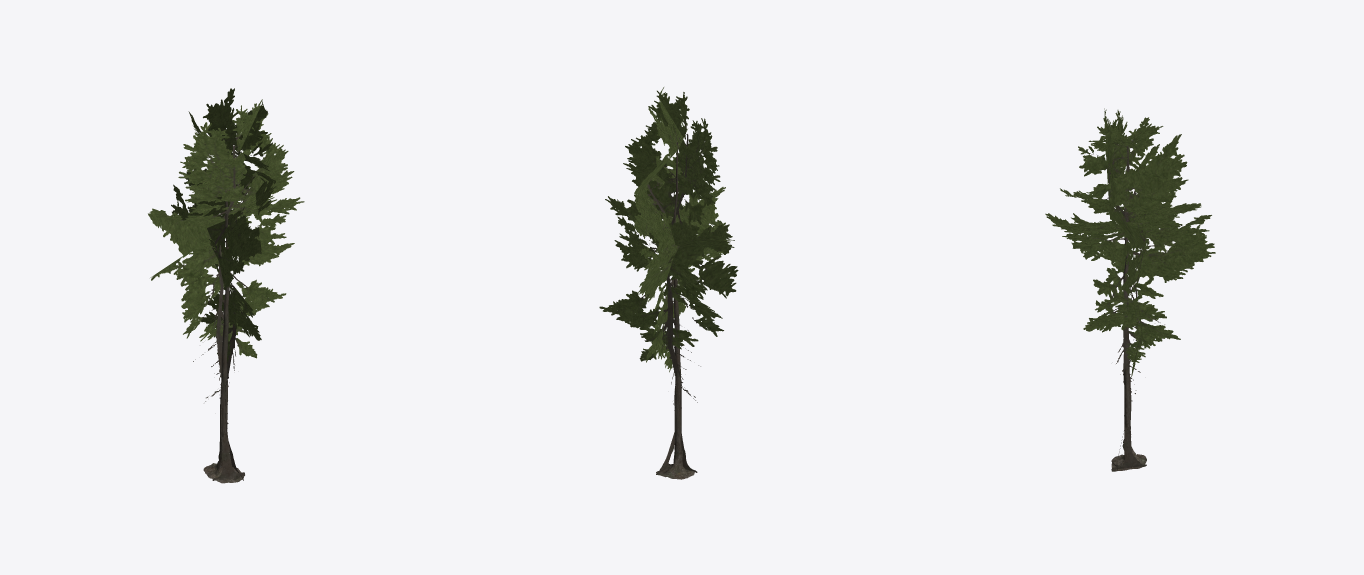
The model's file is fir_tree_01-b-lod2.glb.
3 views of the same model, side by side, from view 1: azimuth 30°, elevation 25°; view 2: azimuth 150°, elevation 25°; view 3: azimuth 270°, elevation 25° (orthographic). The views are drawn at different scales.
Parts seen in each view (by area): view 1: fir_tree_01.b.lod2.foliage, fir_tree_01.b.lod2.bark; view 2: fir_tree_01.b.lod2.foliage, fir_tree_01.b.lod2.bark; view 3: fir_tree_01.b.lod2.foliage, fir_tree_01.b.lod2.bark.
Boxes of the visible parts, x1,y1,x2,y2 form: fir_tree_01.b.lod2.foliage: (148, 88, 304, 480); fir_tree_01.b.lod2.bark: (203, 138, 243, 483); fir_tree_01.b.lod2.foliage: (599, 87, 738, 474); fir_tree_01.b.lod2.bark: (656, 142, 694, 479); fir_tree_01.b.lod2.foliage: (1045, 108, 1215, 471); fir_tree_01.b.lod2.bark: (1111, 147, 1146, 470).
Size of the model in its own units: 15.49 by 14.08 by 15.49.
Materials: 2 (2 with a texture image).
